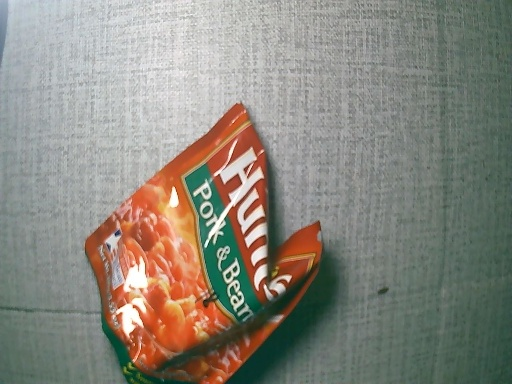plastic: (80, 99, 323, 384)
